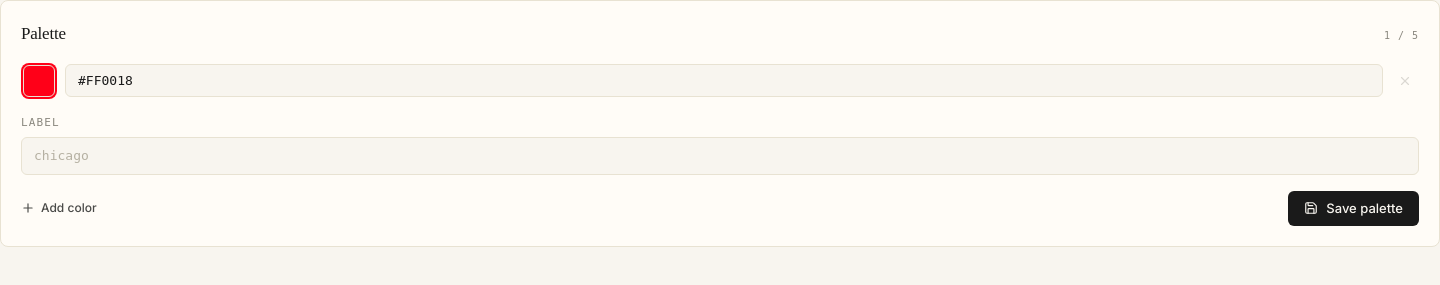
Test case: PalettePanel › rejects_invalid_label_charset
In the field labelled "Label": (720, 156) [21, 137, 1419, 174], type "../etc"
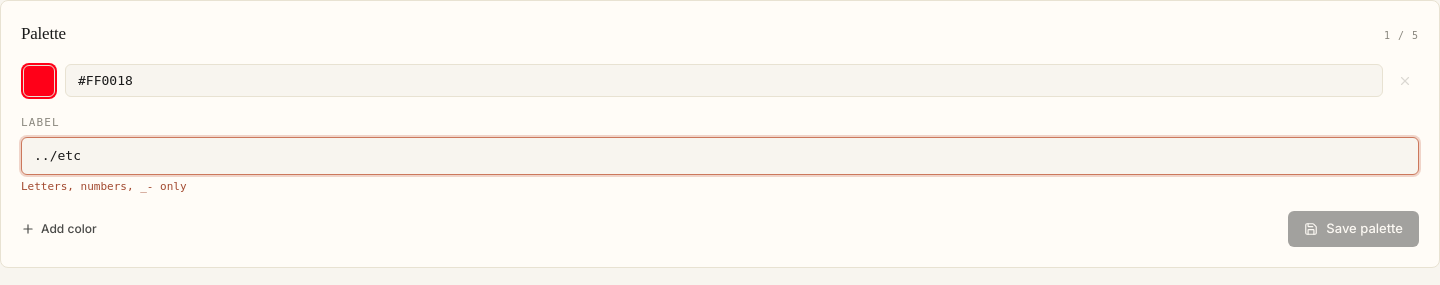
expect the text "Letters, numbers, _- only" is shown: met, box [21, 180, 187, 192]
